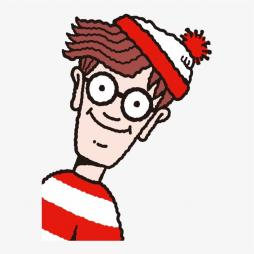wally: (34, 9, 219, 246)
